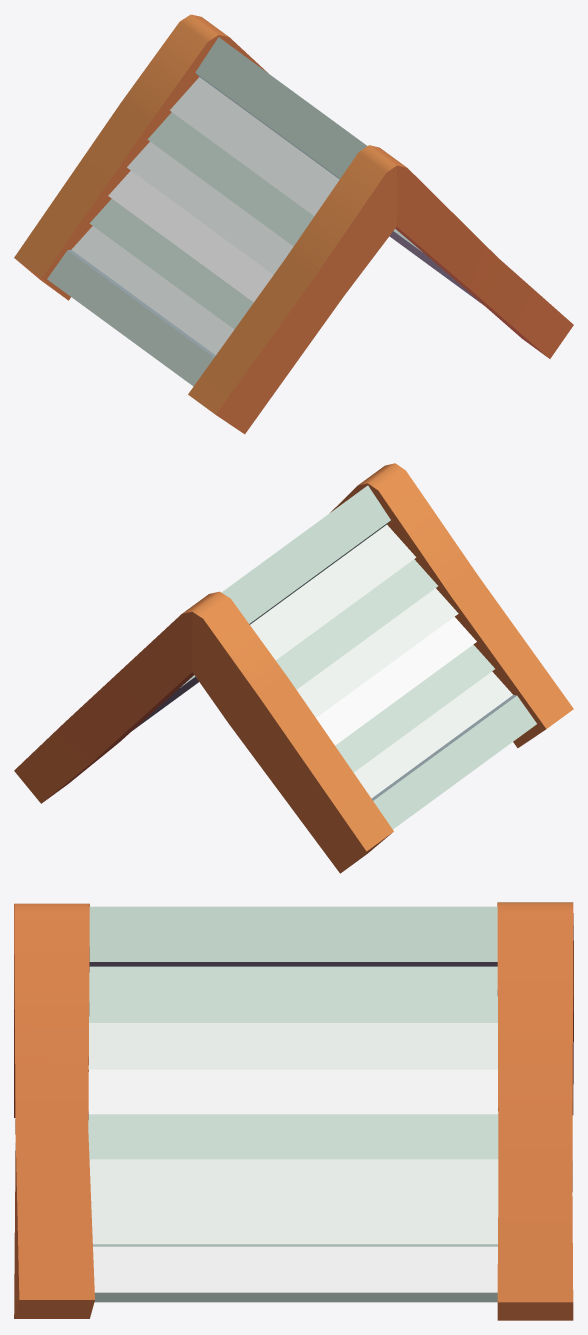
Rendered from Roof03_White_Wood.glb.
3 renders of one model, top to bottom at view 1: azimuth 30°, elevation 25°; view 2: azimuth 150°, elevation 25°; view 3: azimuth 270°, elevation 25°, orthographic. The views are drawn at different scales.
Visible parts, largest first — view 1: Roof03_White_Wood; view 2: Roof03_White_Wood; view 3: Roof03_White_Wood.
Part boxes in pixels (box(x1,y1,x2,y2)): Roof03_White_Wood: box(14, 14, 573, 434); Roof03_White_Wood: box(14, 463, 573, 873); Roof03_White_Wood: box(14, 902, 573, 1320).
Bounding box in the file's own units: 2.41 × 1.48 × 2.38.
1 material, 1 textured.
